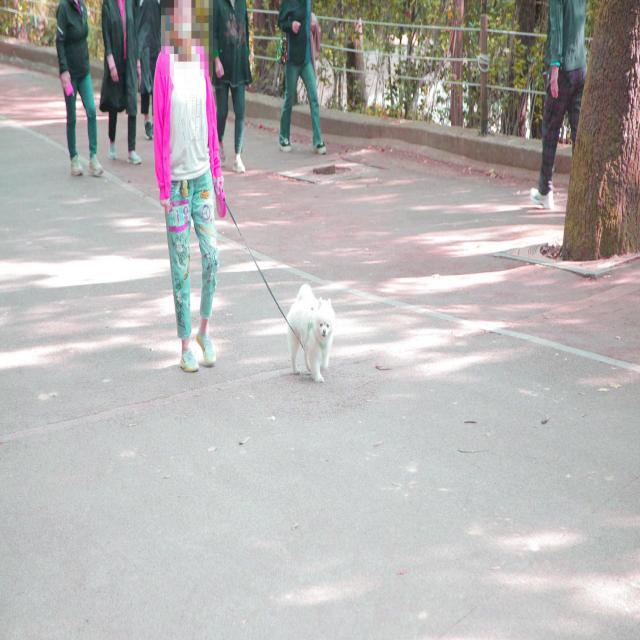Leashed_Dog: (203, 175, 336, 383)
